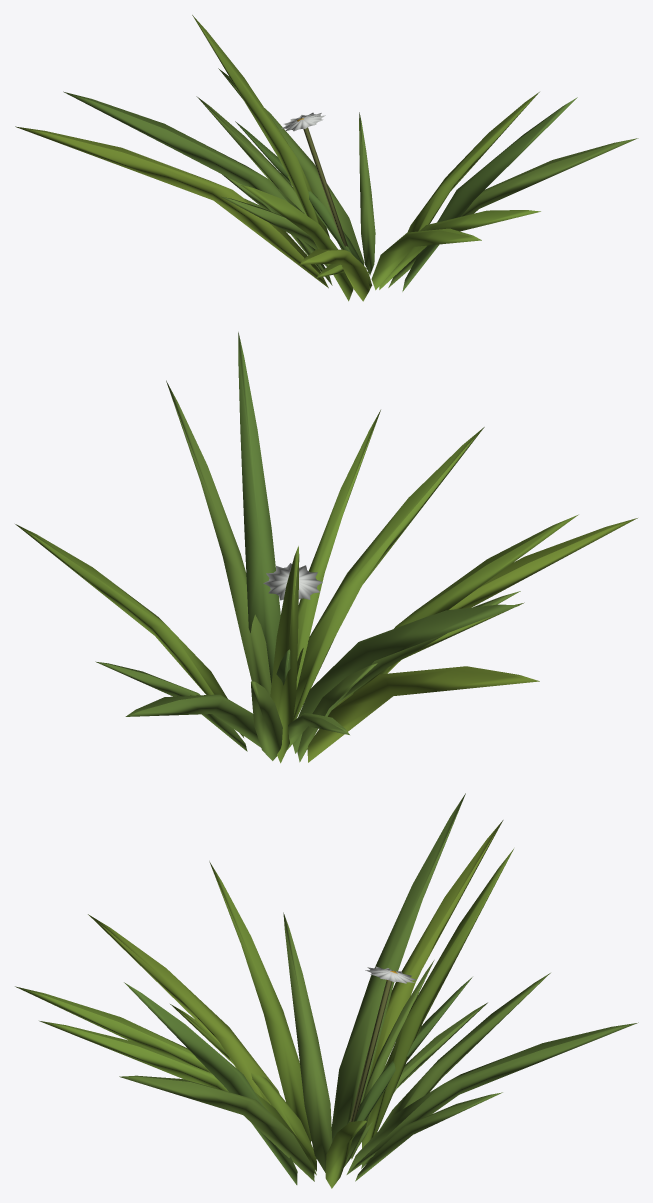
File: tuft_daisy.glb
3 views of the same model, one above another, from view 1: azimuth 30°, elevation 25°; view 2: azimuth 150°, elevation 25°; view 3: azimuth 270°, elevation 25° (orthographic). The views are drawn at different scales.
Parts seen in each view (by area): view 1: Sammel Pflanze, Sammel Putz; view 2: Sammel Pflanze; view 3: Sammel Pflanze, Sammel Putz.
Part boxes in pixels (x1,y1,x2,y2): Sammel Pflanze: (15, 15, 638, 301); Sammel Putz: (303, 127, 347, 246); Sammel Pflanze: (15, 332, 637, 763); Sammel Pflanze: (15, 793, 638, 1188); Sammel Putz: (349, 980, 391, 1121).
Size of the model in its own units: 0.3674 by 0.1791 by 0.37.
